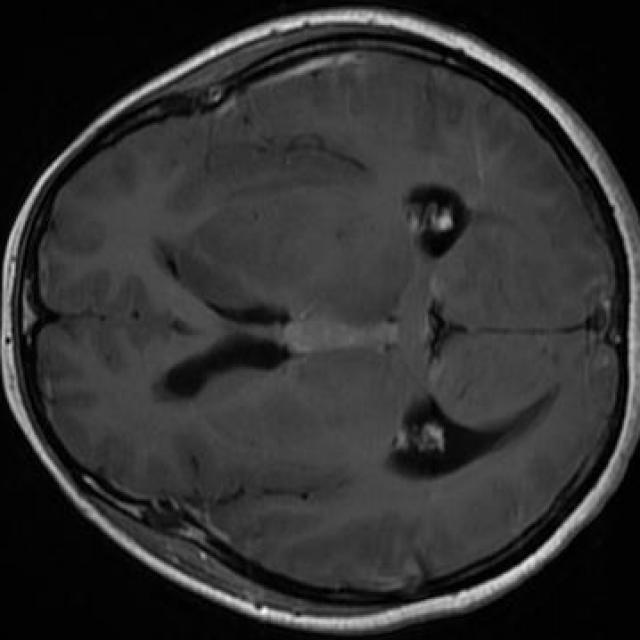glioma: (180, 185, 412, 355)
